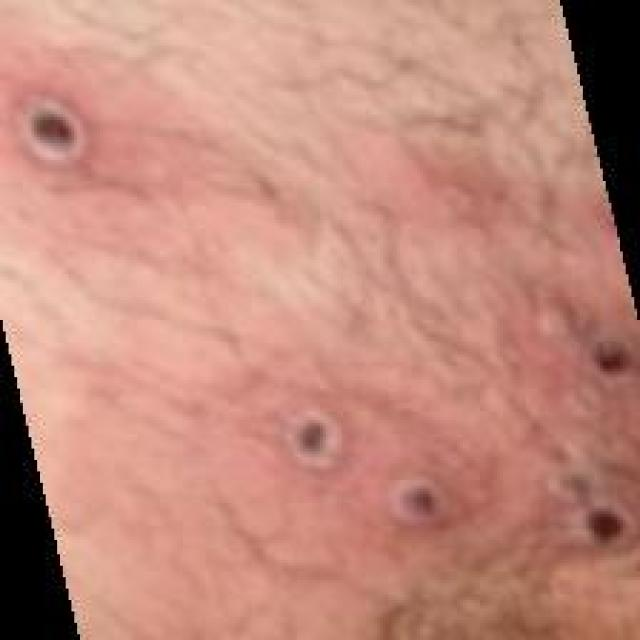monkeypox: (15, 69, 638, 631)
